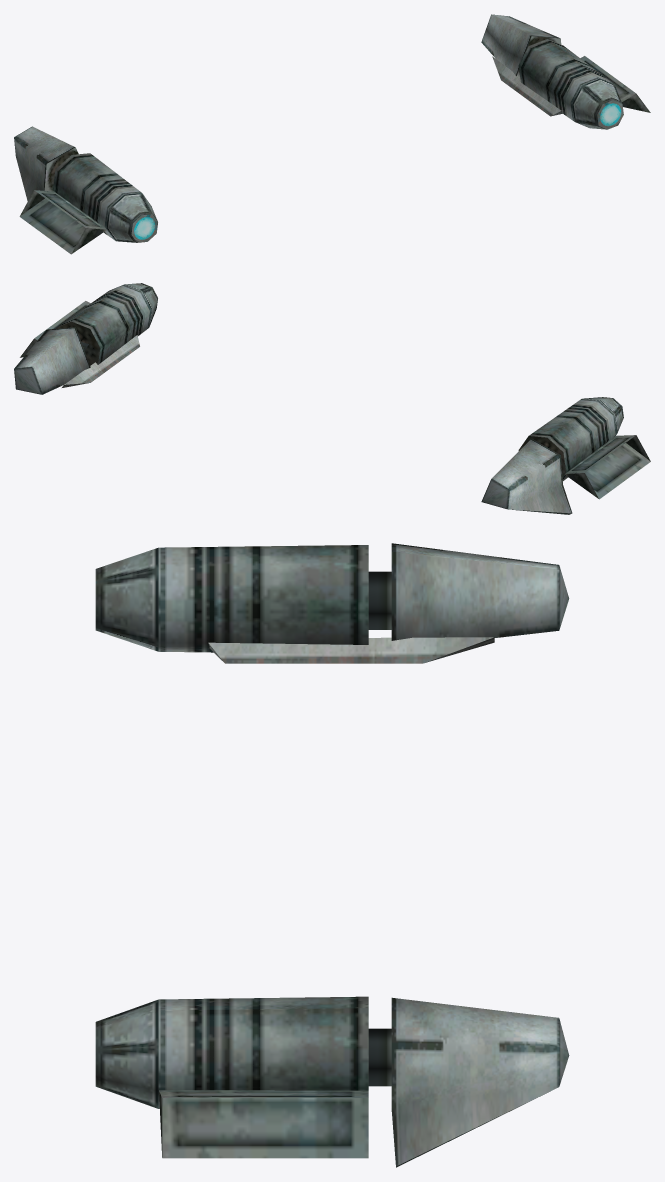
The model's file is black_sun_fighter_heavy_weapon2_s02_l1.fbx.
The picture shows the model from 3 angles, top to bottom: view 1: azimuth 30°, elevation 25°; view 2: azimuth 150°, elevation 25°; view 3: azimuth 270°, elevation 25°; orthographic projection. The views are drawn at different scales.
Visible parts, largest first — view 1: mesh_node; view 2: mesh_node; view 3: mesh_node.
Part boxes in pixels (x1,y1,x2,y2): mesh_node: [14, 14, 650, 254]; mesh_node: [14, 283, 650, 514]; mesh_node: [95, 543, 569, 1167].
Size of the model in its own units: 5.43 by 0.5929 by 1.92.
1 material, 1 textured.
